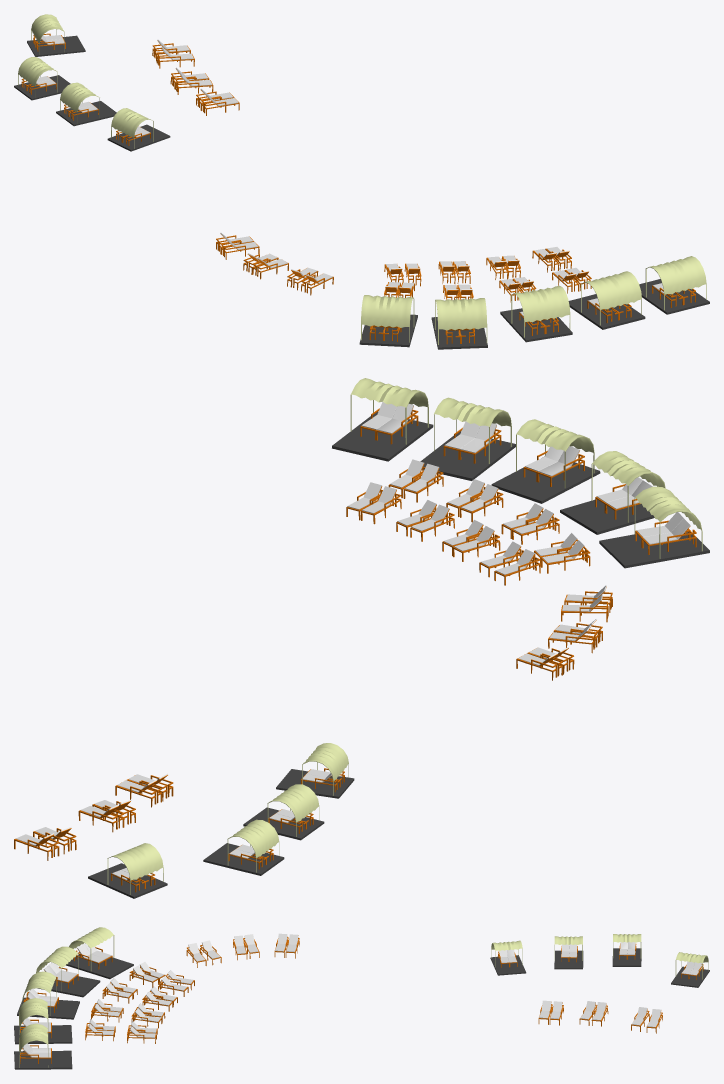
The model's file is SLS_decor.glb.
3 views of the same model, one above another, from view 1: azimuth 30°, elevation 25°; view 2: azimuth 150°, elevation 25°; view 3: azimuth 270°, elevation 25° (orthographic). The views are drawn at different scales.
Parts seen in each view (by area): view 1: beach.001; view 2: beach.001; view 3: beach.001.
Boxes of the visible parts, x1=… form: beach.001: x1=14, y1=14, x2=709, y2=349; beach.001: x1=14, y1=378, x2=709, y2=898; beach.001: x1=14, y1=927, x2=709, y2=1069.
Bounding box in the file's own units: 25.71 × 4.01 × 60.98.
